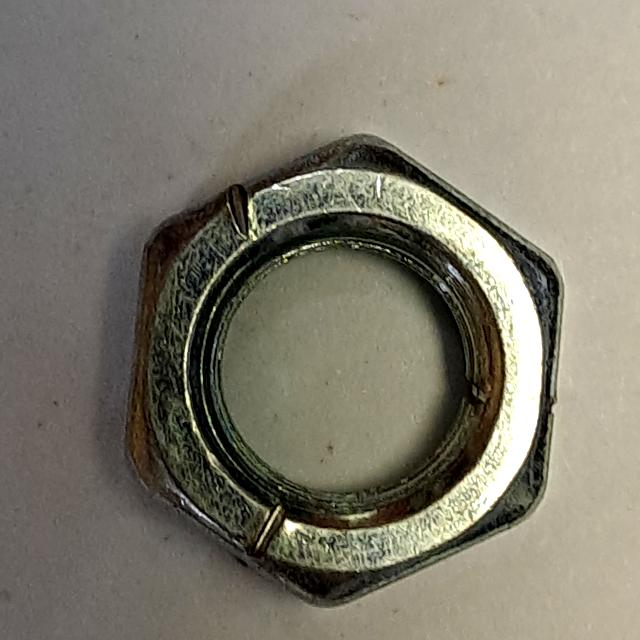Scratches: (115, 119, 578, 618)
